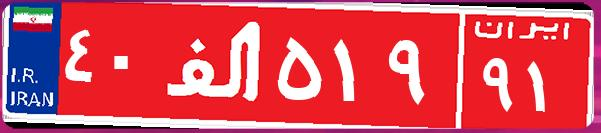0: (110, 28, 158, 105)
1: (330, 28, 385, 110), (525, 38, 570, 115)
4: (57, 26, 110, 107)
5: (273, 28, 330, 110)
9: (385, 28, 445, 110), (475, 38, 525, 113)
الف: (158, 15, 273, 115)
